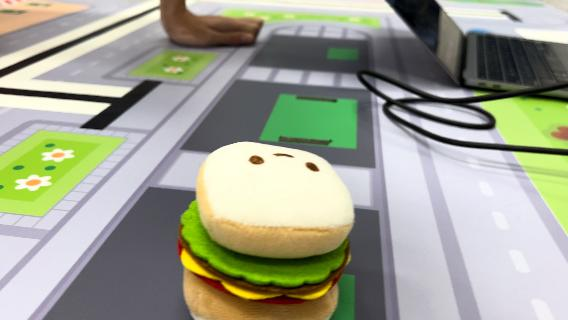sandwich: (176, 139, 358, 317)
